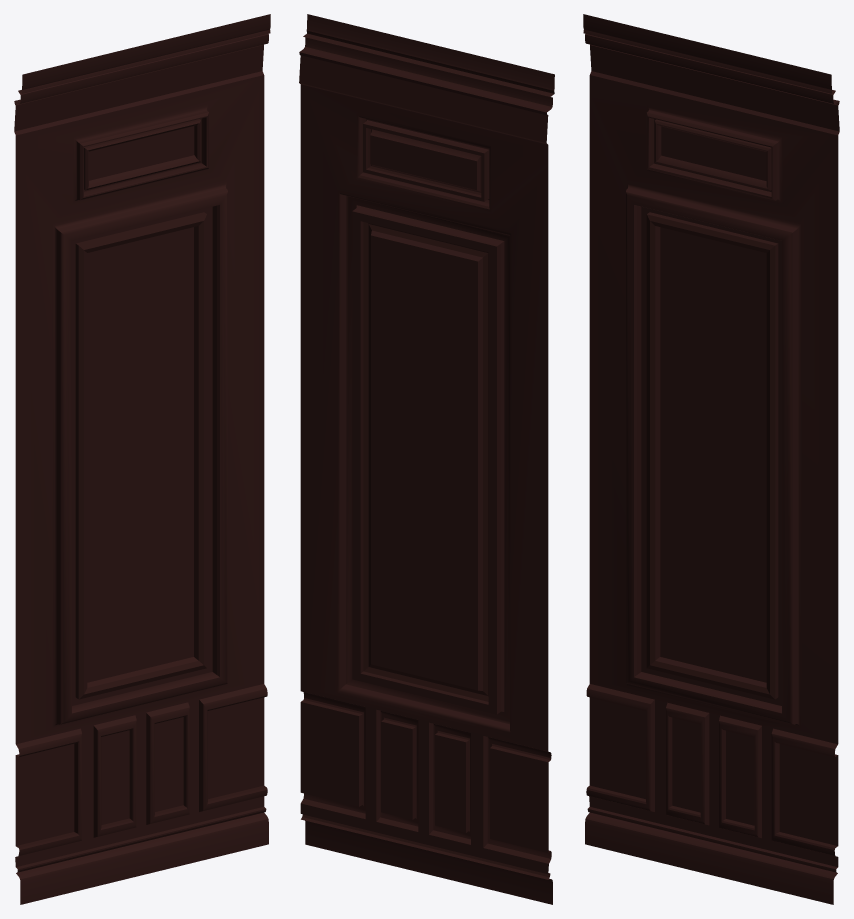
File: wall_small.fbx
3 renders of one model, left to right at view 1: azimuth 30°, elevation 25°; view 2: azimuth 150°, elevation 25°; view 3: azimuth 330°, elevation 25°, orthographic.
Visible parts, largest first — view 1: Plane.016; view 2: Plane.016; view 3: Plane.016.
Boxes of the visible parts, x1=… form: Plane.016: x1=14, y1=14, x2=270, y2=904; Plane.016: x1=299, y1=14, x2=554, y2=904; Plane.016: x1=583, y1=14, x2=839, y2=904.
Bounding box in the file's own units: 100 × 320 × 5.73.
